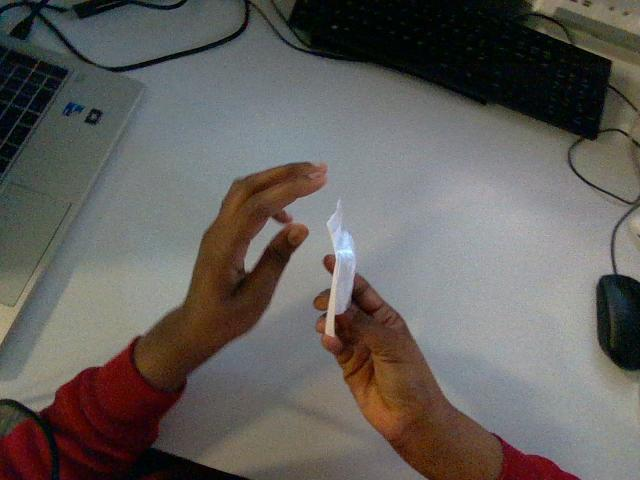gauze: (325, 201, 355, 335)
